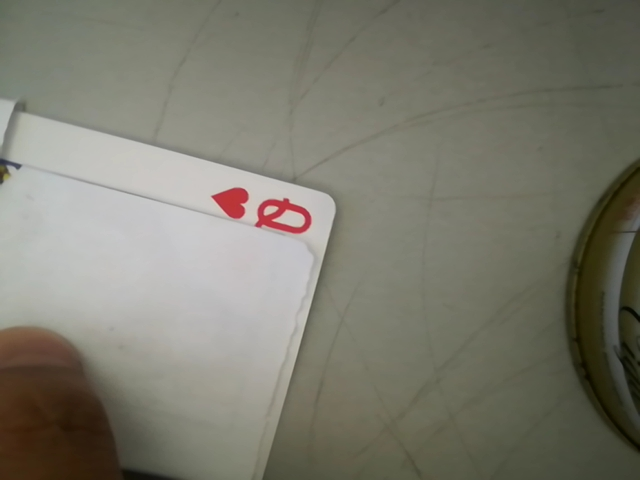hx q: (200, 185, 327, 238)
